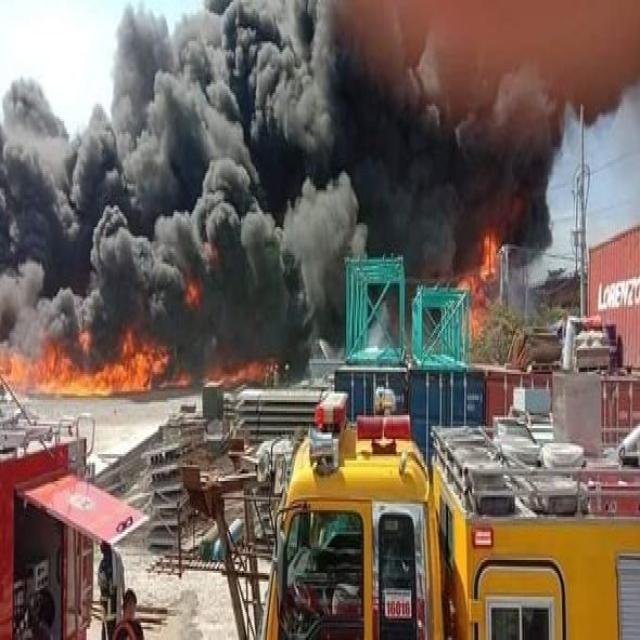Fire: (0, 290, 281, 408), (472, 231, 510, 351)
Smoke: (140, 0, 640, 227), (4, 84, 344, 330)
